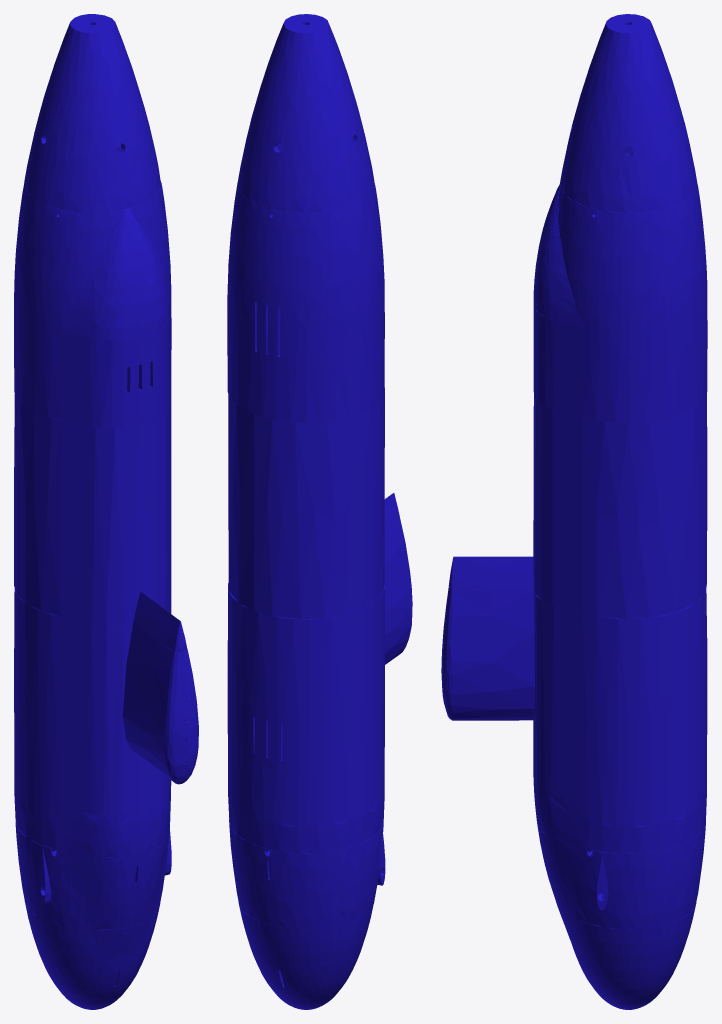
File: coque_solide_modif.dae
3 views of the same model, side by side, from view 1: azimuth 30°, elevation 25°; view 2: azimuth 150°, elevation 25°; view 3: azimuth 270°, elevation 25° (orthographic).
Visible parts, largest first — view 1: coqu_solid; view 2: coqu_solid; view 3: coqu_solid.
Boxes of the visible parts, <box> form: coqu_solid: <box>14,14,198,1009</box>; coqu_solid: <box>227,14,412,1009</box>; coqu_solid: <box>441,14,707,1009</box>.
Size of the model in its own units: 0.2377 by 0.4011 by 1.64.
